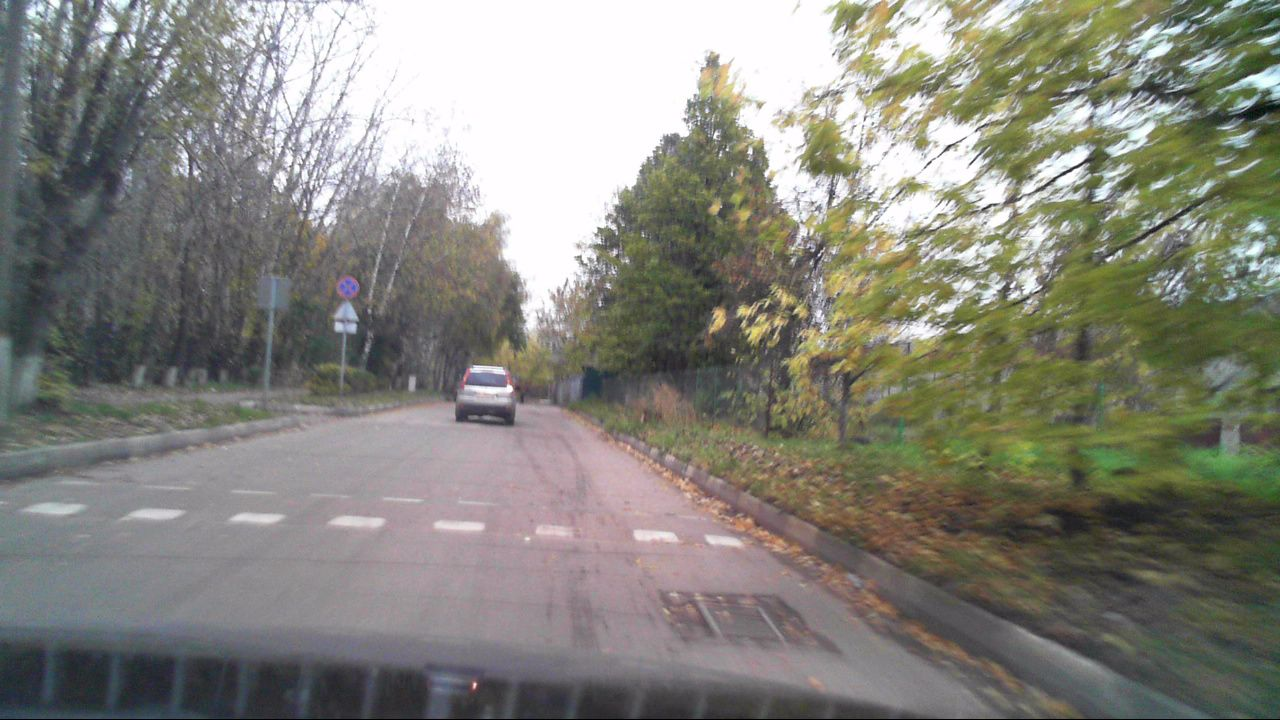No Parking: (337, 276, 359, 298)
